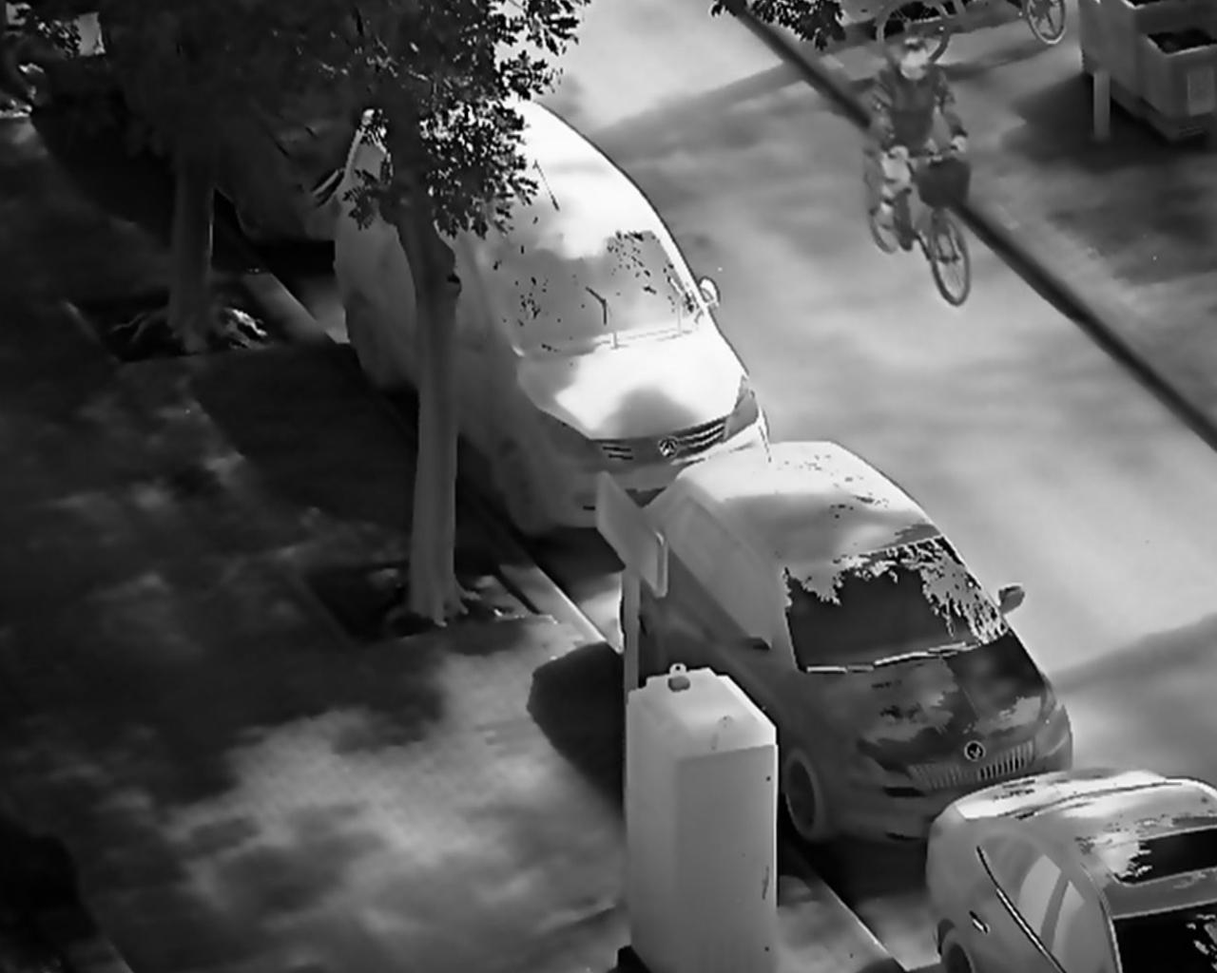person: (867, 35, 974, 237)
